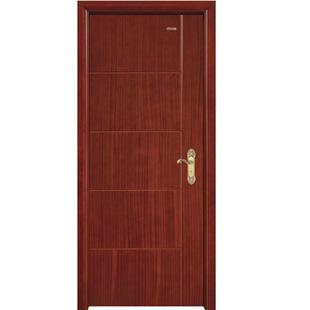door: (87, 15, 203, 304)
